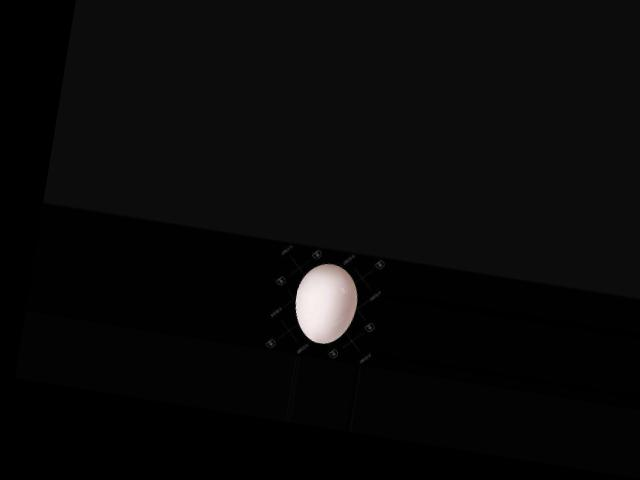egg: (289, 259, 361, 347)
